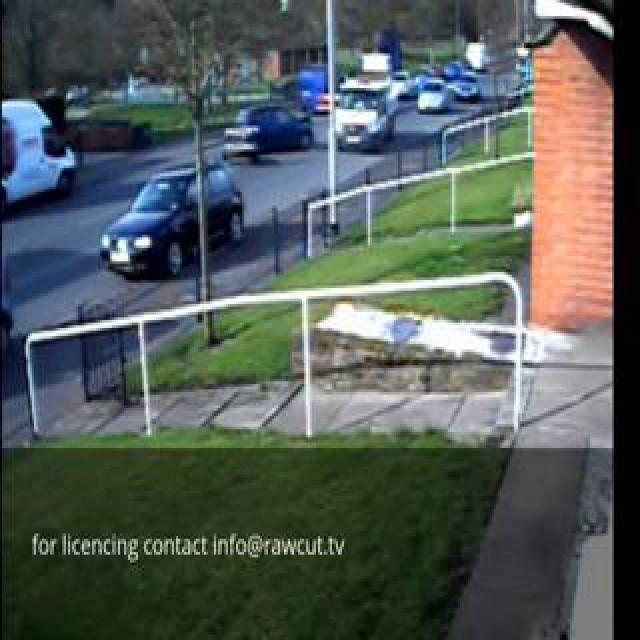road accidents: (118, 4, 417, 318)
